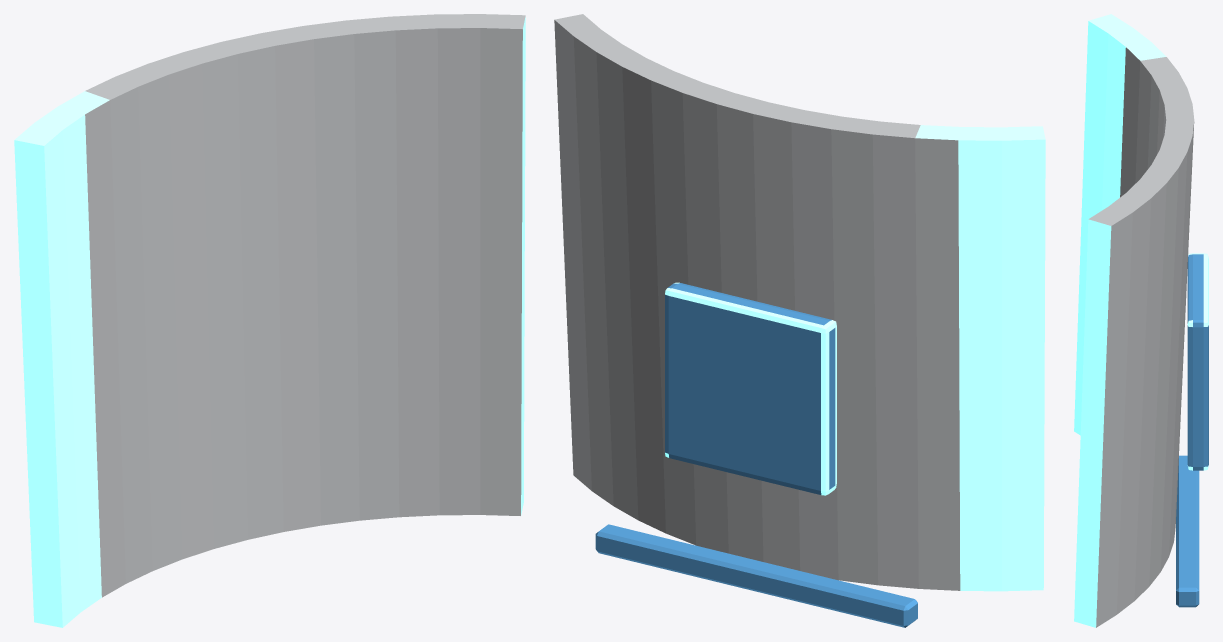
File: back__rear_core.glb
3 views of the same model, side by side, from view 1: azimuth 30°, elevation 25°; view 2: azimuth 150°, elevation 25°; view 3: azimuth 270°, elevation 25° (orthographic). The views are drawn at different scales.
Parts seen in each view (by area): view 1: armor_armor_back__rear_core_v001_v001; view 2: armor_armor_back__rear_core_v001_v001; view 3: armor_armor_back__rear_core_v001_v001.
Boxes of the visible parts, x1,y1,x2,y2 form: armor_armor_back__rear_core_v001_v001: [14, 14, 525, 627]; armor_armor_back__rear_core_v001_v001: [554, 14, 1045, 627]; armor_armor_back__rear_core_v001_v001: [1074, 14, 1208, 627].
Bounding box in the file's own units: 0.47 × 0.435 × 0.1263.
